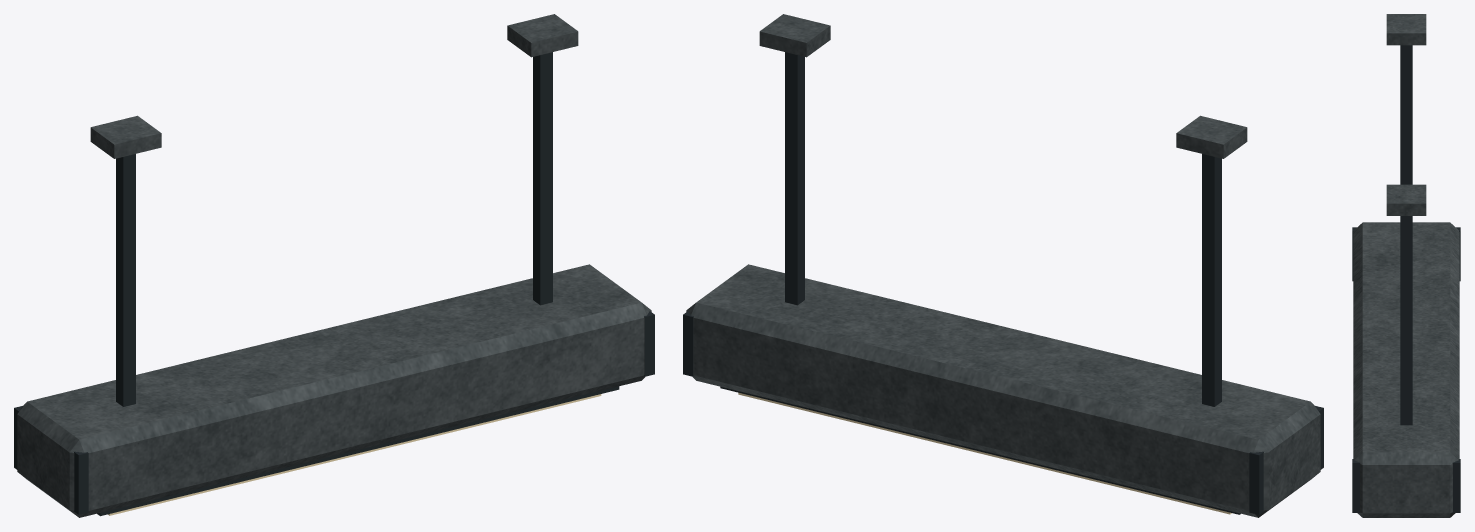
File: CEILING_LAMP_v01.fbx
3 renders of one model, left to right at view 1: azimuth 30°, elevation 25°; view 2: azimuth 150°, elevation 25°; view 3: azimuth 270°, elevation 25°, orthographic. The views are drawn at different scales.
Parts seen in each view (by area): view 1: LE_CEILING_LAMP_Mesh; view 2: LE_CEILING_LAMP_Mesh; view 3: LE_CEILING_LAMP_Mesh.
Boxes of the visible parts, x1,y1,x2,y2 form: LE_CEILING_LAMP_Mesh: [14, 14, 654, 517]; LE_CEILING_LAMP_Mesh: [683, 14, 1323, 517]; LE_CEILING_LAMP_Mesh: [1352, 14, 1460, 517].
Bounding box in the file's own units: 1.48 × 0.8775 × 0.285.
Materials: 3 (1 with a texture image).
